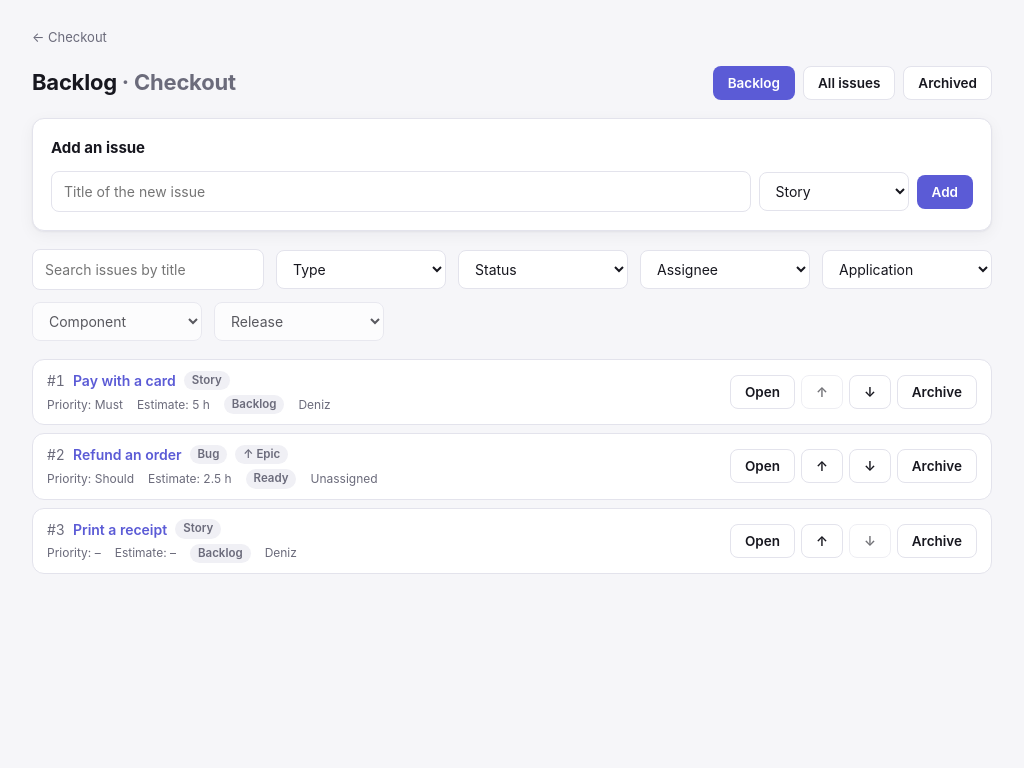
Scenario: the backlog: filters › shows a failed read of the components
The width and height of the screenshot is (1024, 768).
Check: the link "Refund an order" is shown, box [73,444,182,465]
Select "Shop site" in the dropdown named "Application" at x=907, y=270, box [822,250,992,289]
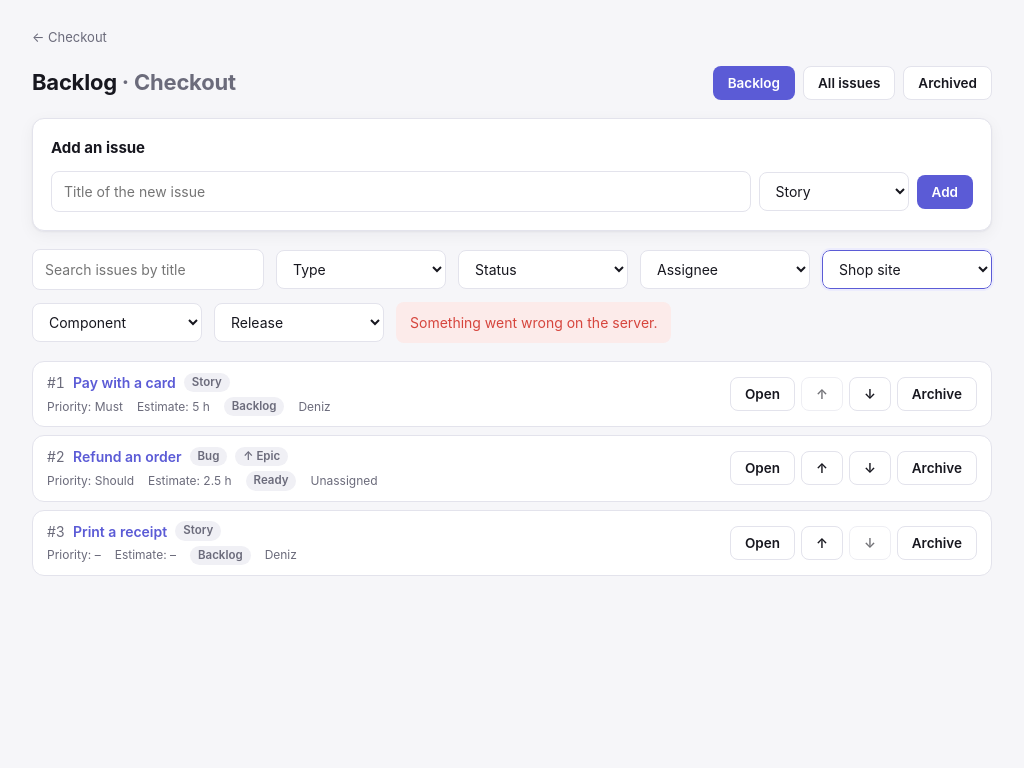
Check: the text "Something went wrong on the server." is shown, box [396,302,672,343]
